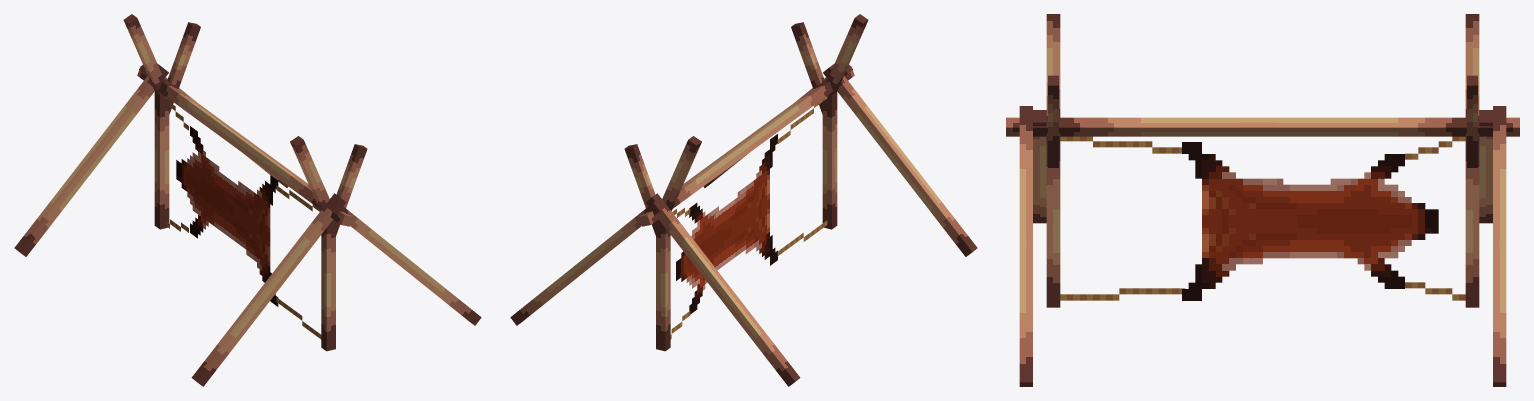
File: tanning-rack.gltf
3 views of the same model, side by side, from view 1: azimuth 30°, elevation 25°; view 2: azimuth 150°, elevation 25°; view 3: azimuth 270°, elevation 25° (orthographic). The views are drawn at different scales.
Parts seen in each view (by area): view 1: cube (×12); view 2: cube (×12); view 3: cube (×14).
Part boxes in pixels (x1,y1,x2,y2): cube (×12): (14, 14, 481, 386); cube (×12): (510, 14, 977, 386); cube (×14): (1006, 14, 1519, 386).
Bounding box in the file's own units: 1.88 × 1.4 × 2.38.
1 material, 1 textured.
